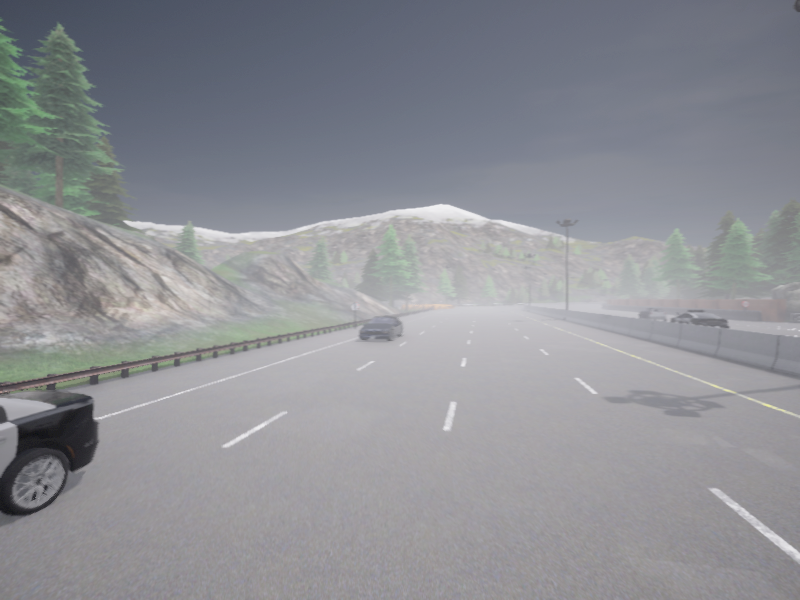vehicle: (0, 391, 99, 514), (359, 316, 404, 341), (669, 310, 728, 328), (639, 308, 666, 320)
